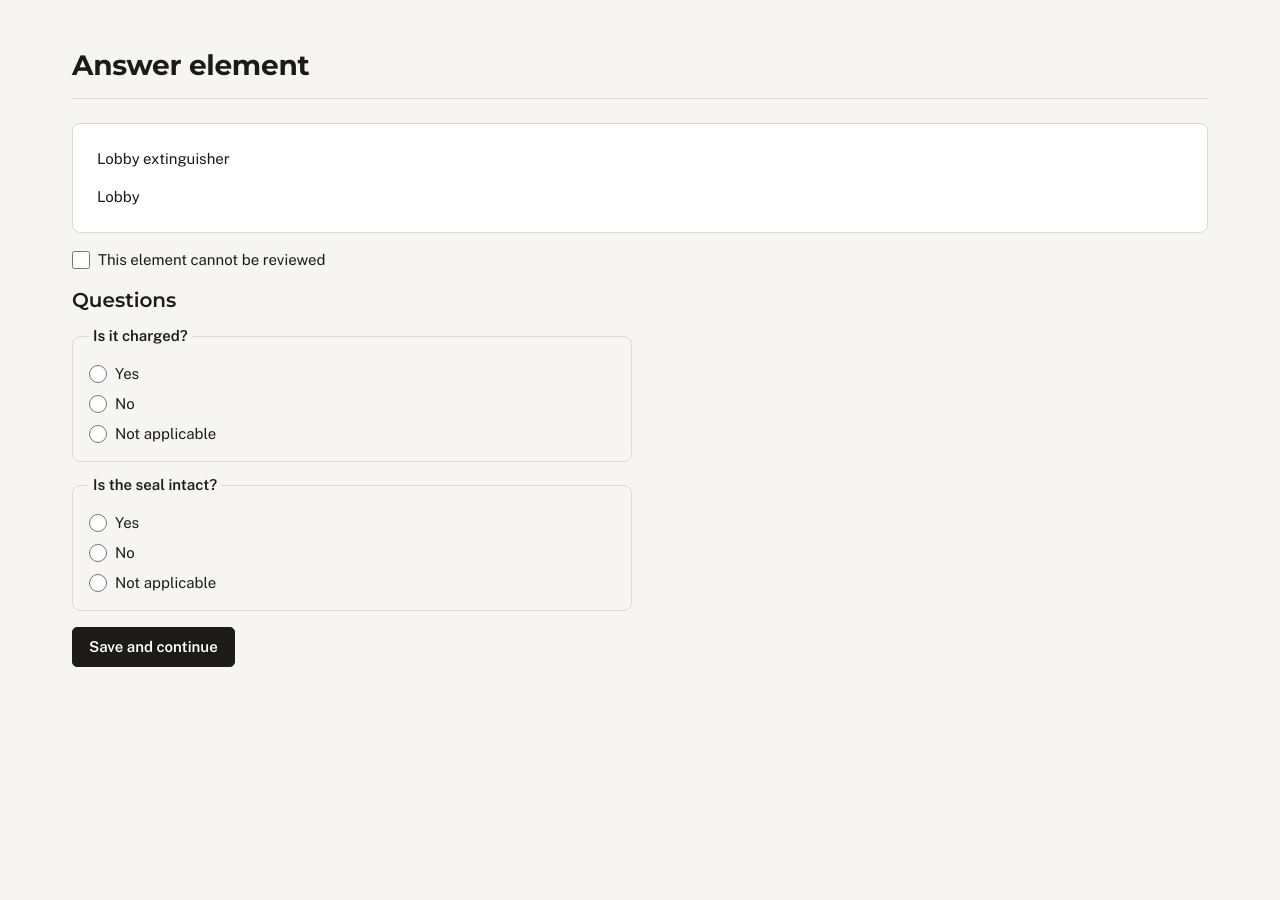
Test: ReviewSessionElementPage › withdraws the save confirmation after changing an answer
Expected: the element with test id "review-session-element-question-q1" is shown, left=72, top=325, right=632, bottom=462
Click the radio button with test id "review-session-element-answer-q1-YES". click: (98, 374)
box: left=89, top=365, right=107, bottom=383
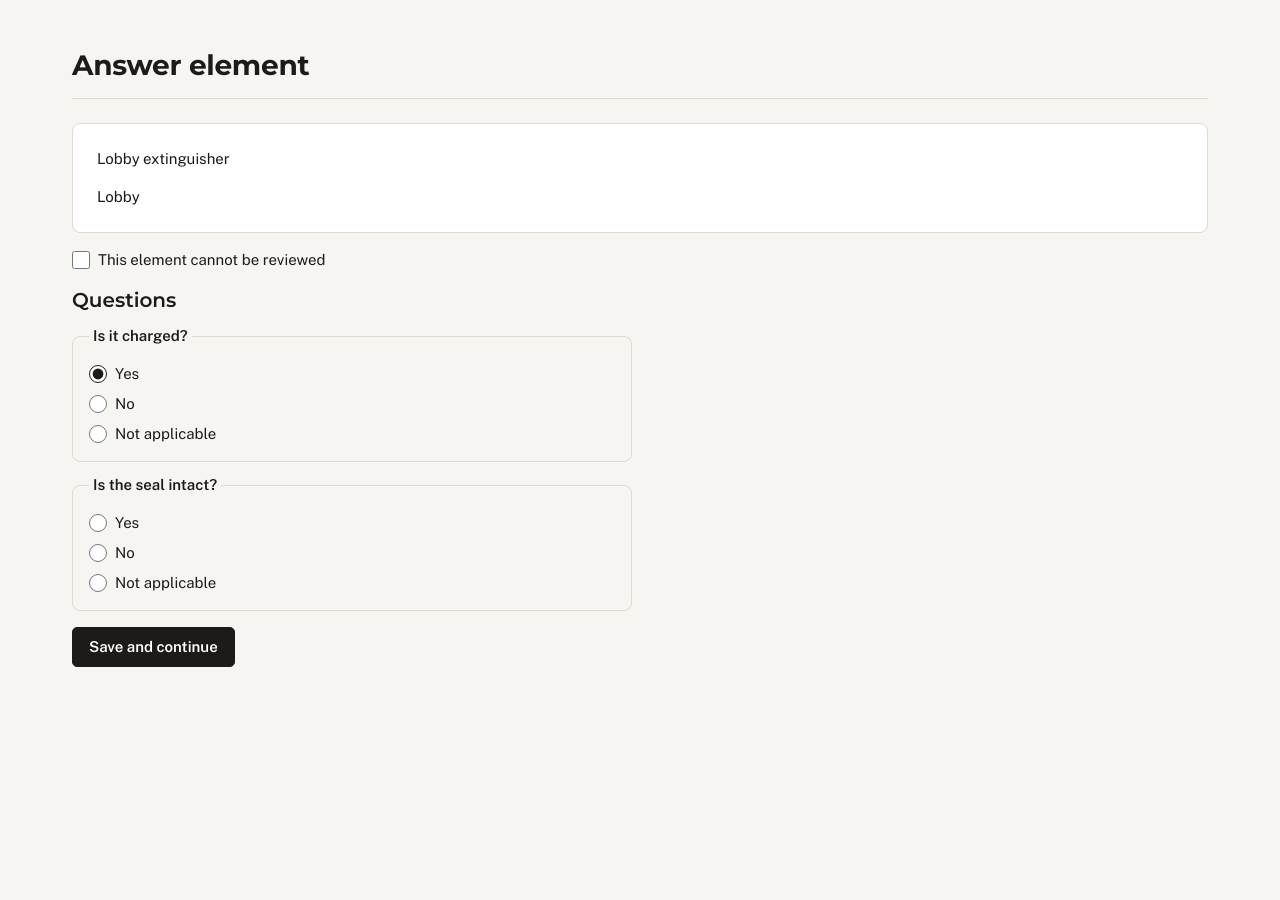
Click the radio button with test id "review-session-element-answer-q2-YES". click: (98, 523)
box: left=89, top=514, right=107, bottom=532
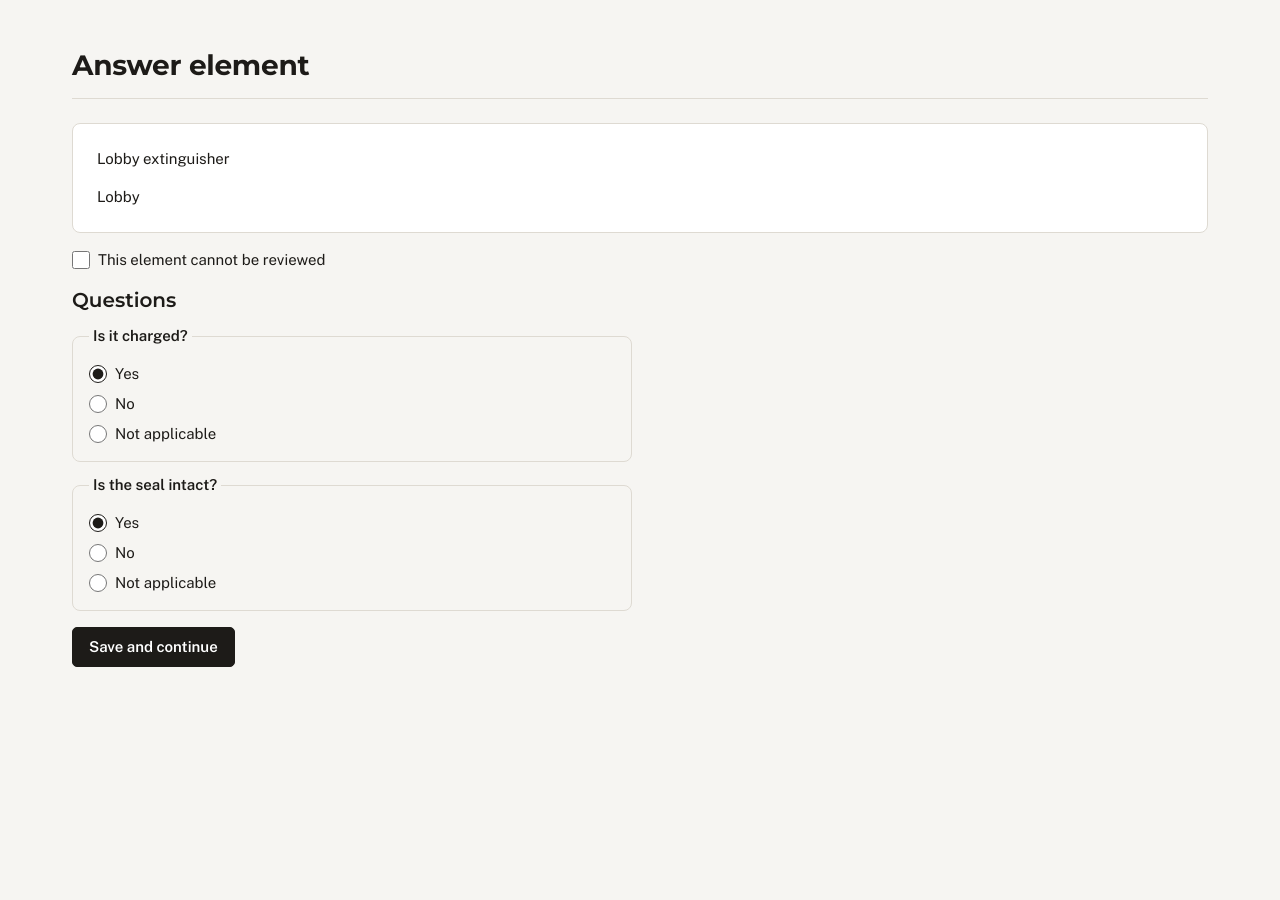
Click the button with test id "review-session-element-save". click: (153, 647)
box: left=72, top=627, right=235, bottom=667
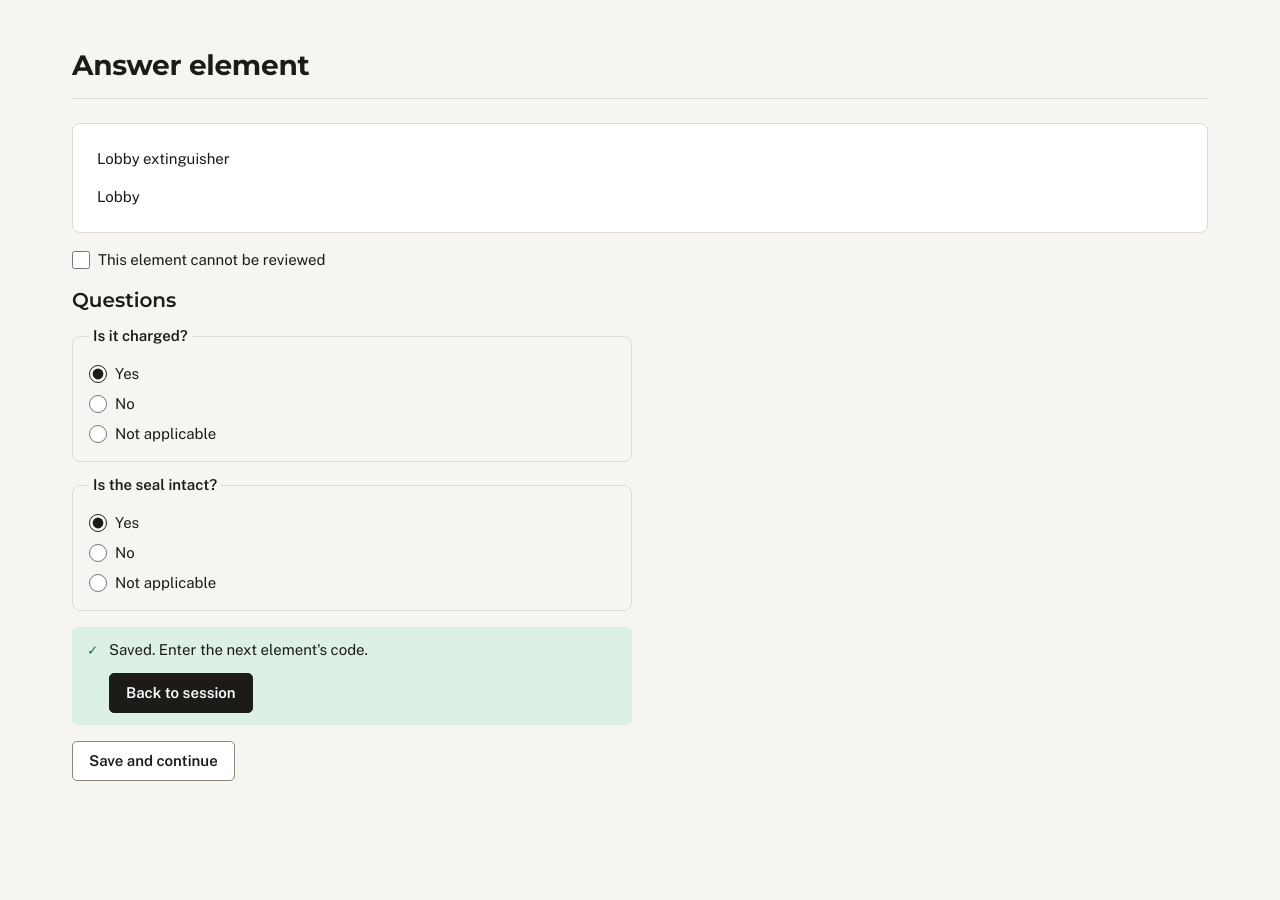
Expected: the element with test id "review-session-element-saved" is shown, left=72, top=627, right=632, bottom=725
Click the radio button with test id "review-session-element-answer-q1-NO". click: (98, 404)
box: left=89, top=395, right=107, bottom=413
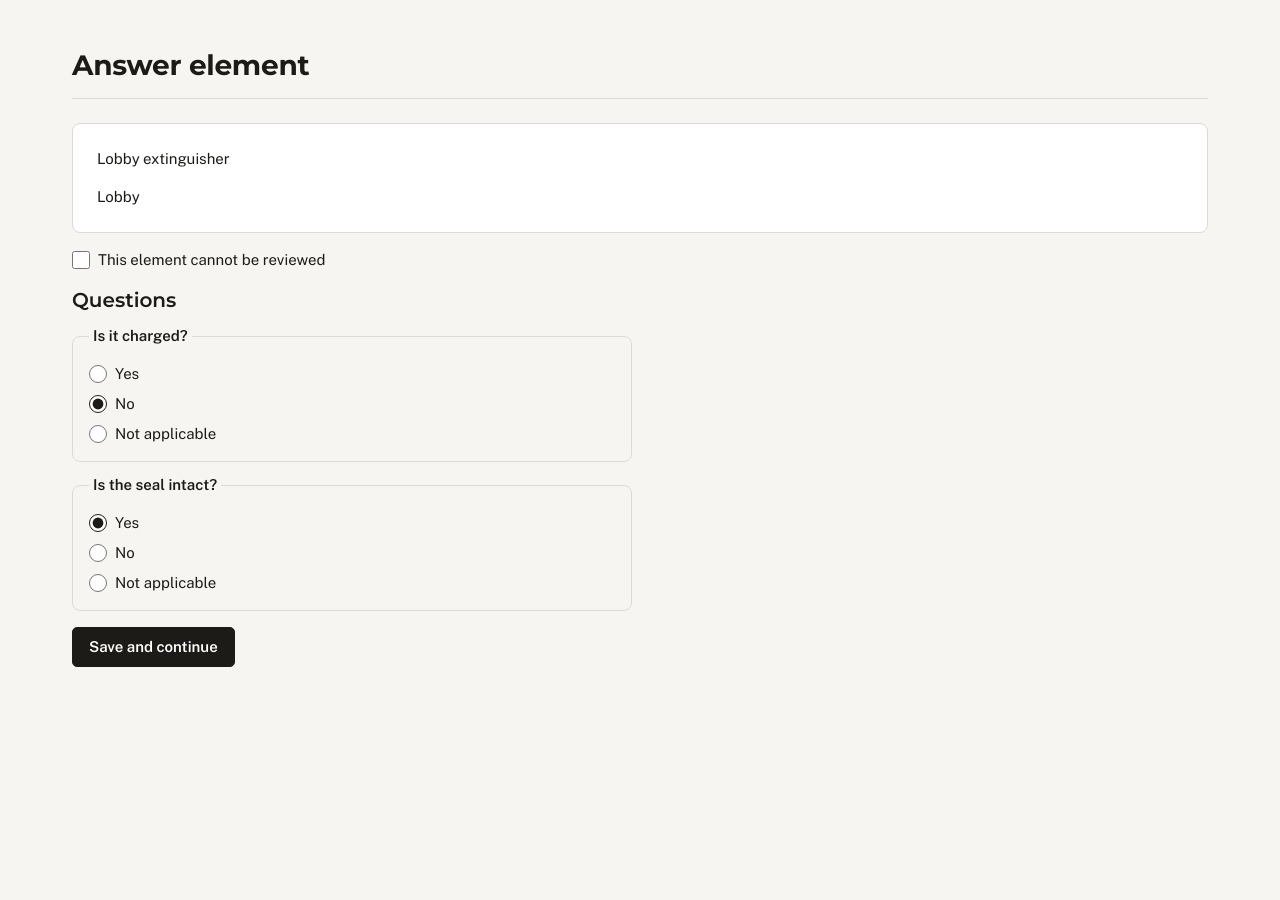
Expected: the element with test id "review-session-element-saved" is gone
Expected: the button with test id "review-session-element-continue" is gone
